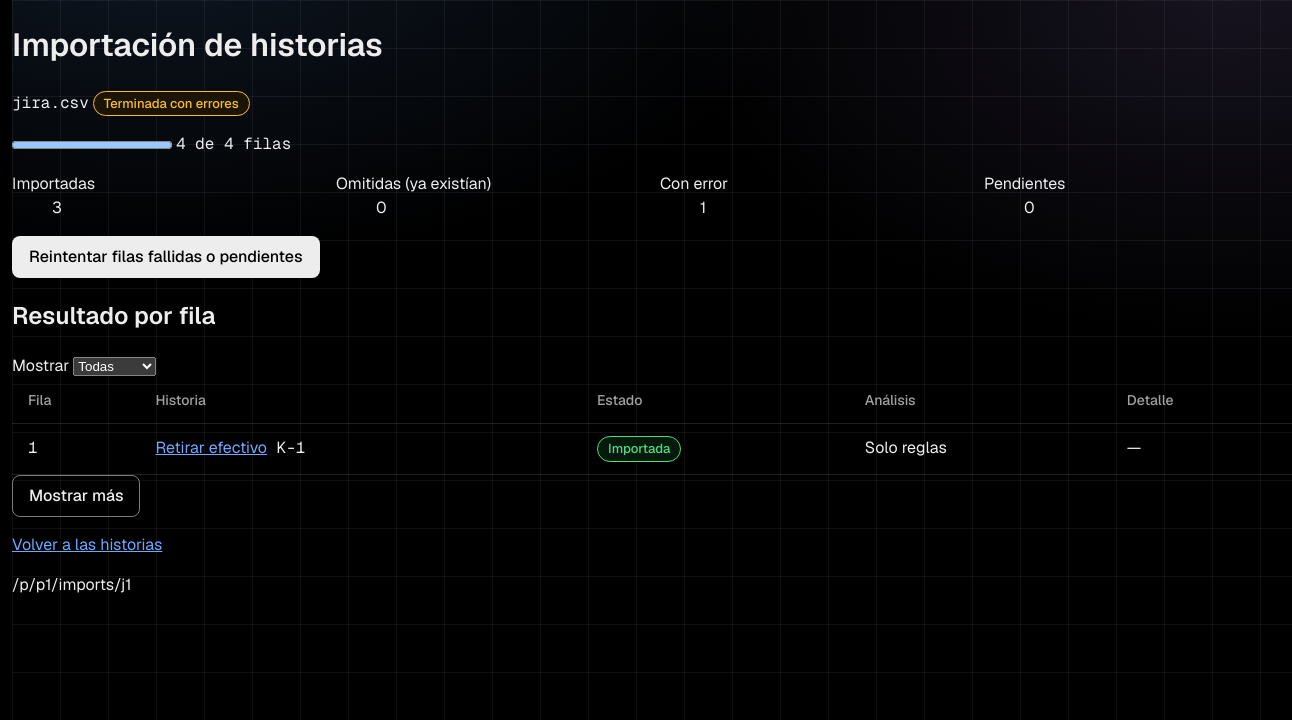
ImportJobPage › con filas fallidas ofrece reintentar y reanuda la consulta
Expected: the text "Terminada con errores" is shown, [93,91,250,116]
What coordinates should you click on to do the following:
click the button "Reintentar filas fallidas o pendientes"
I would click on:
 (166, 257)
Its box is [12,236,320,278].
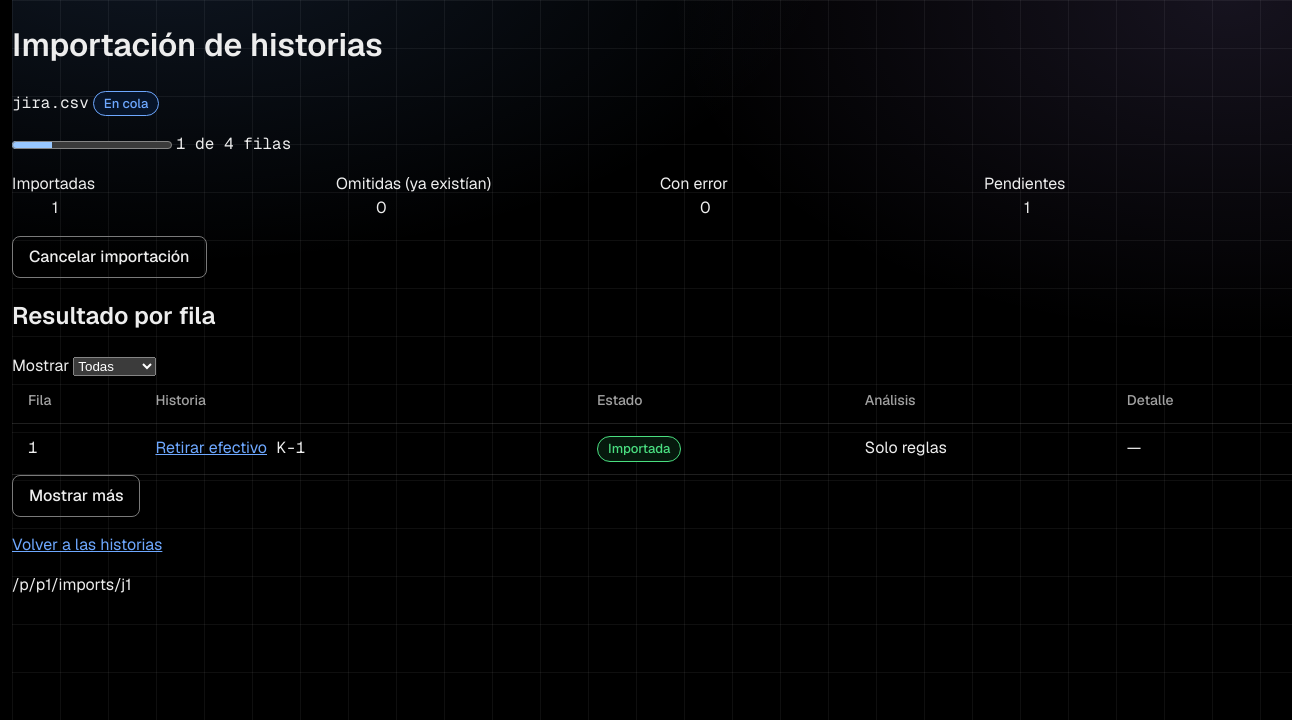
Expected: the text "En cola" is shown, [93,91,159,116]
